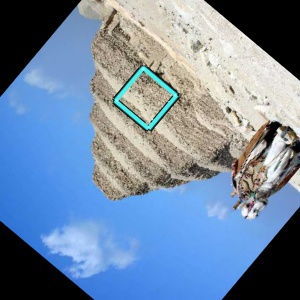square: (113, 64, 182, 132)
